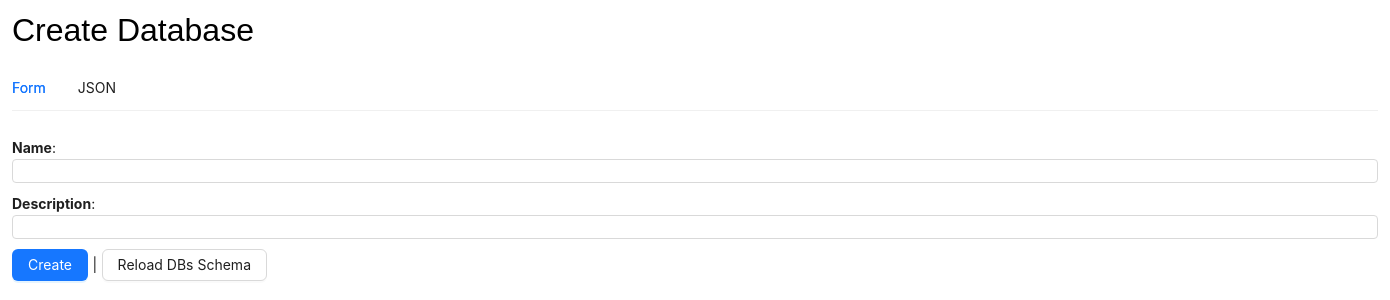
Test case: CreateDbPage › creates the database schema from the form values
Type "blog" into the field below "Name" at [695, 171], box [12,159,1378,183]
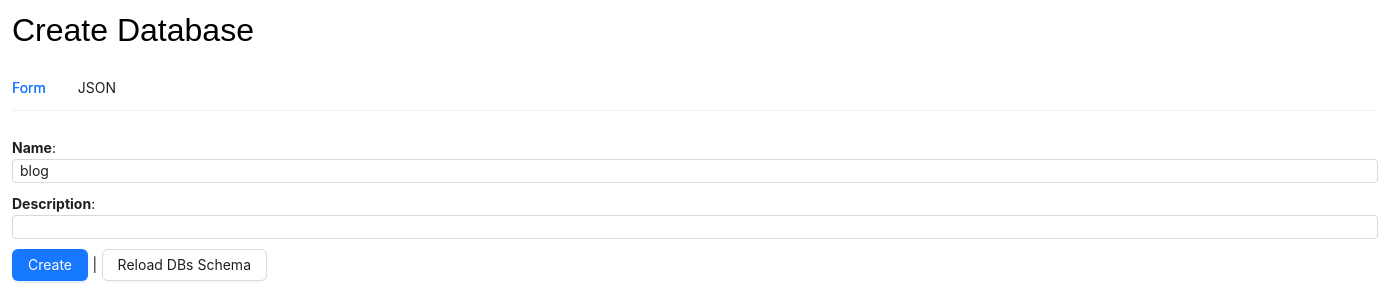
Type "My blog" into the field below "Description" at [695, 227], box [12,215,1378,239]
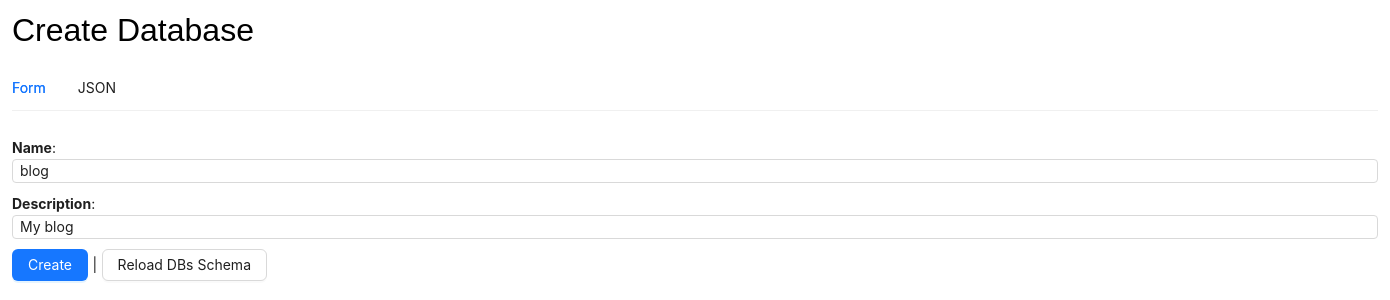
Click the button "Create" at [50, 265], box [12,249,88,281]
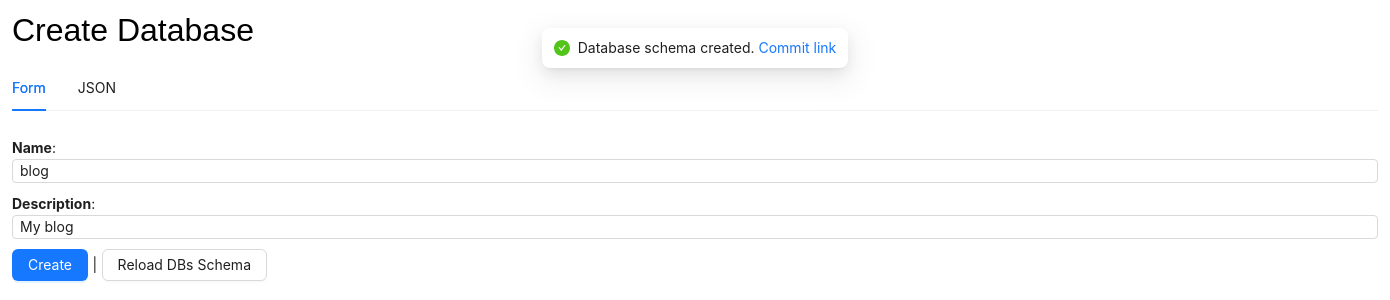
Expected: the text "Database schema created." is shown, [578,39,754,56]
